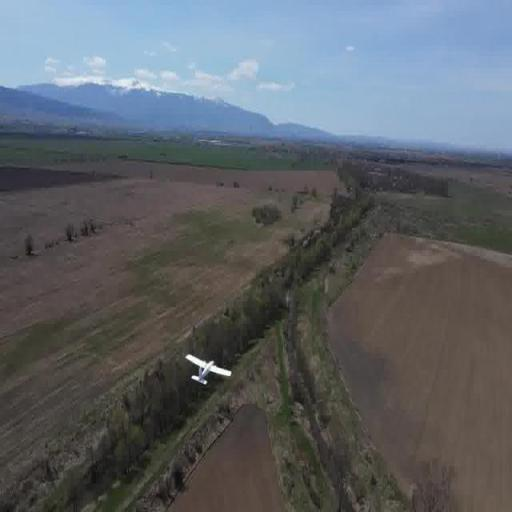uav: (186, 347, 233, 393)
